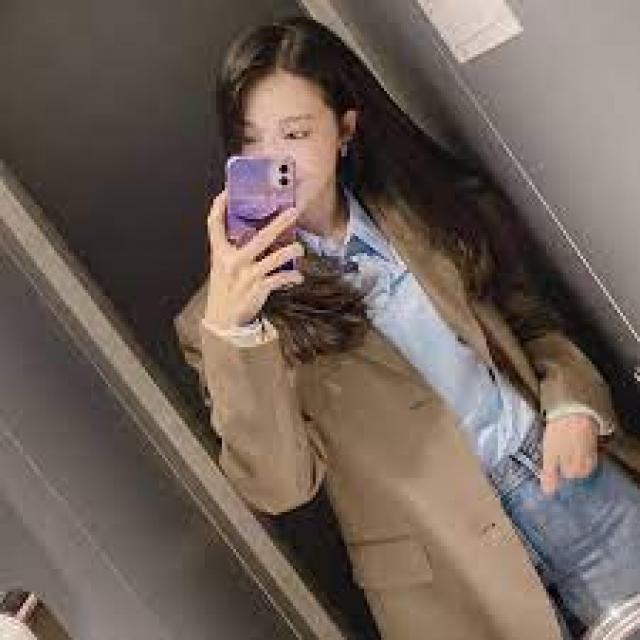Phone: (223, 150, 301, 289)
